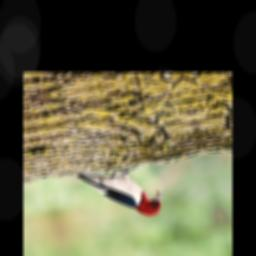Woodpecker: (76, 161, 169, 226)
